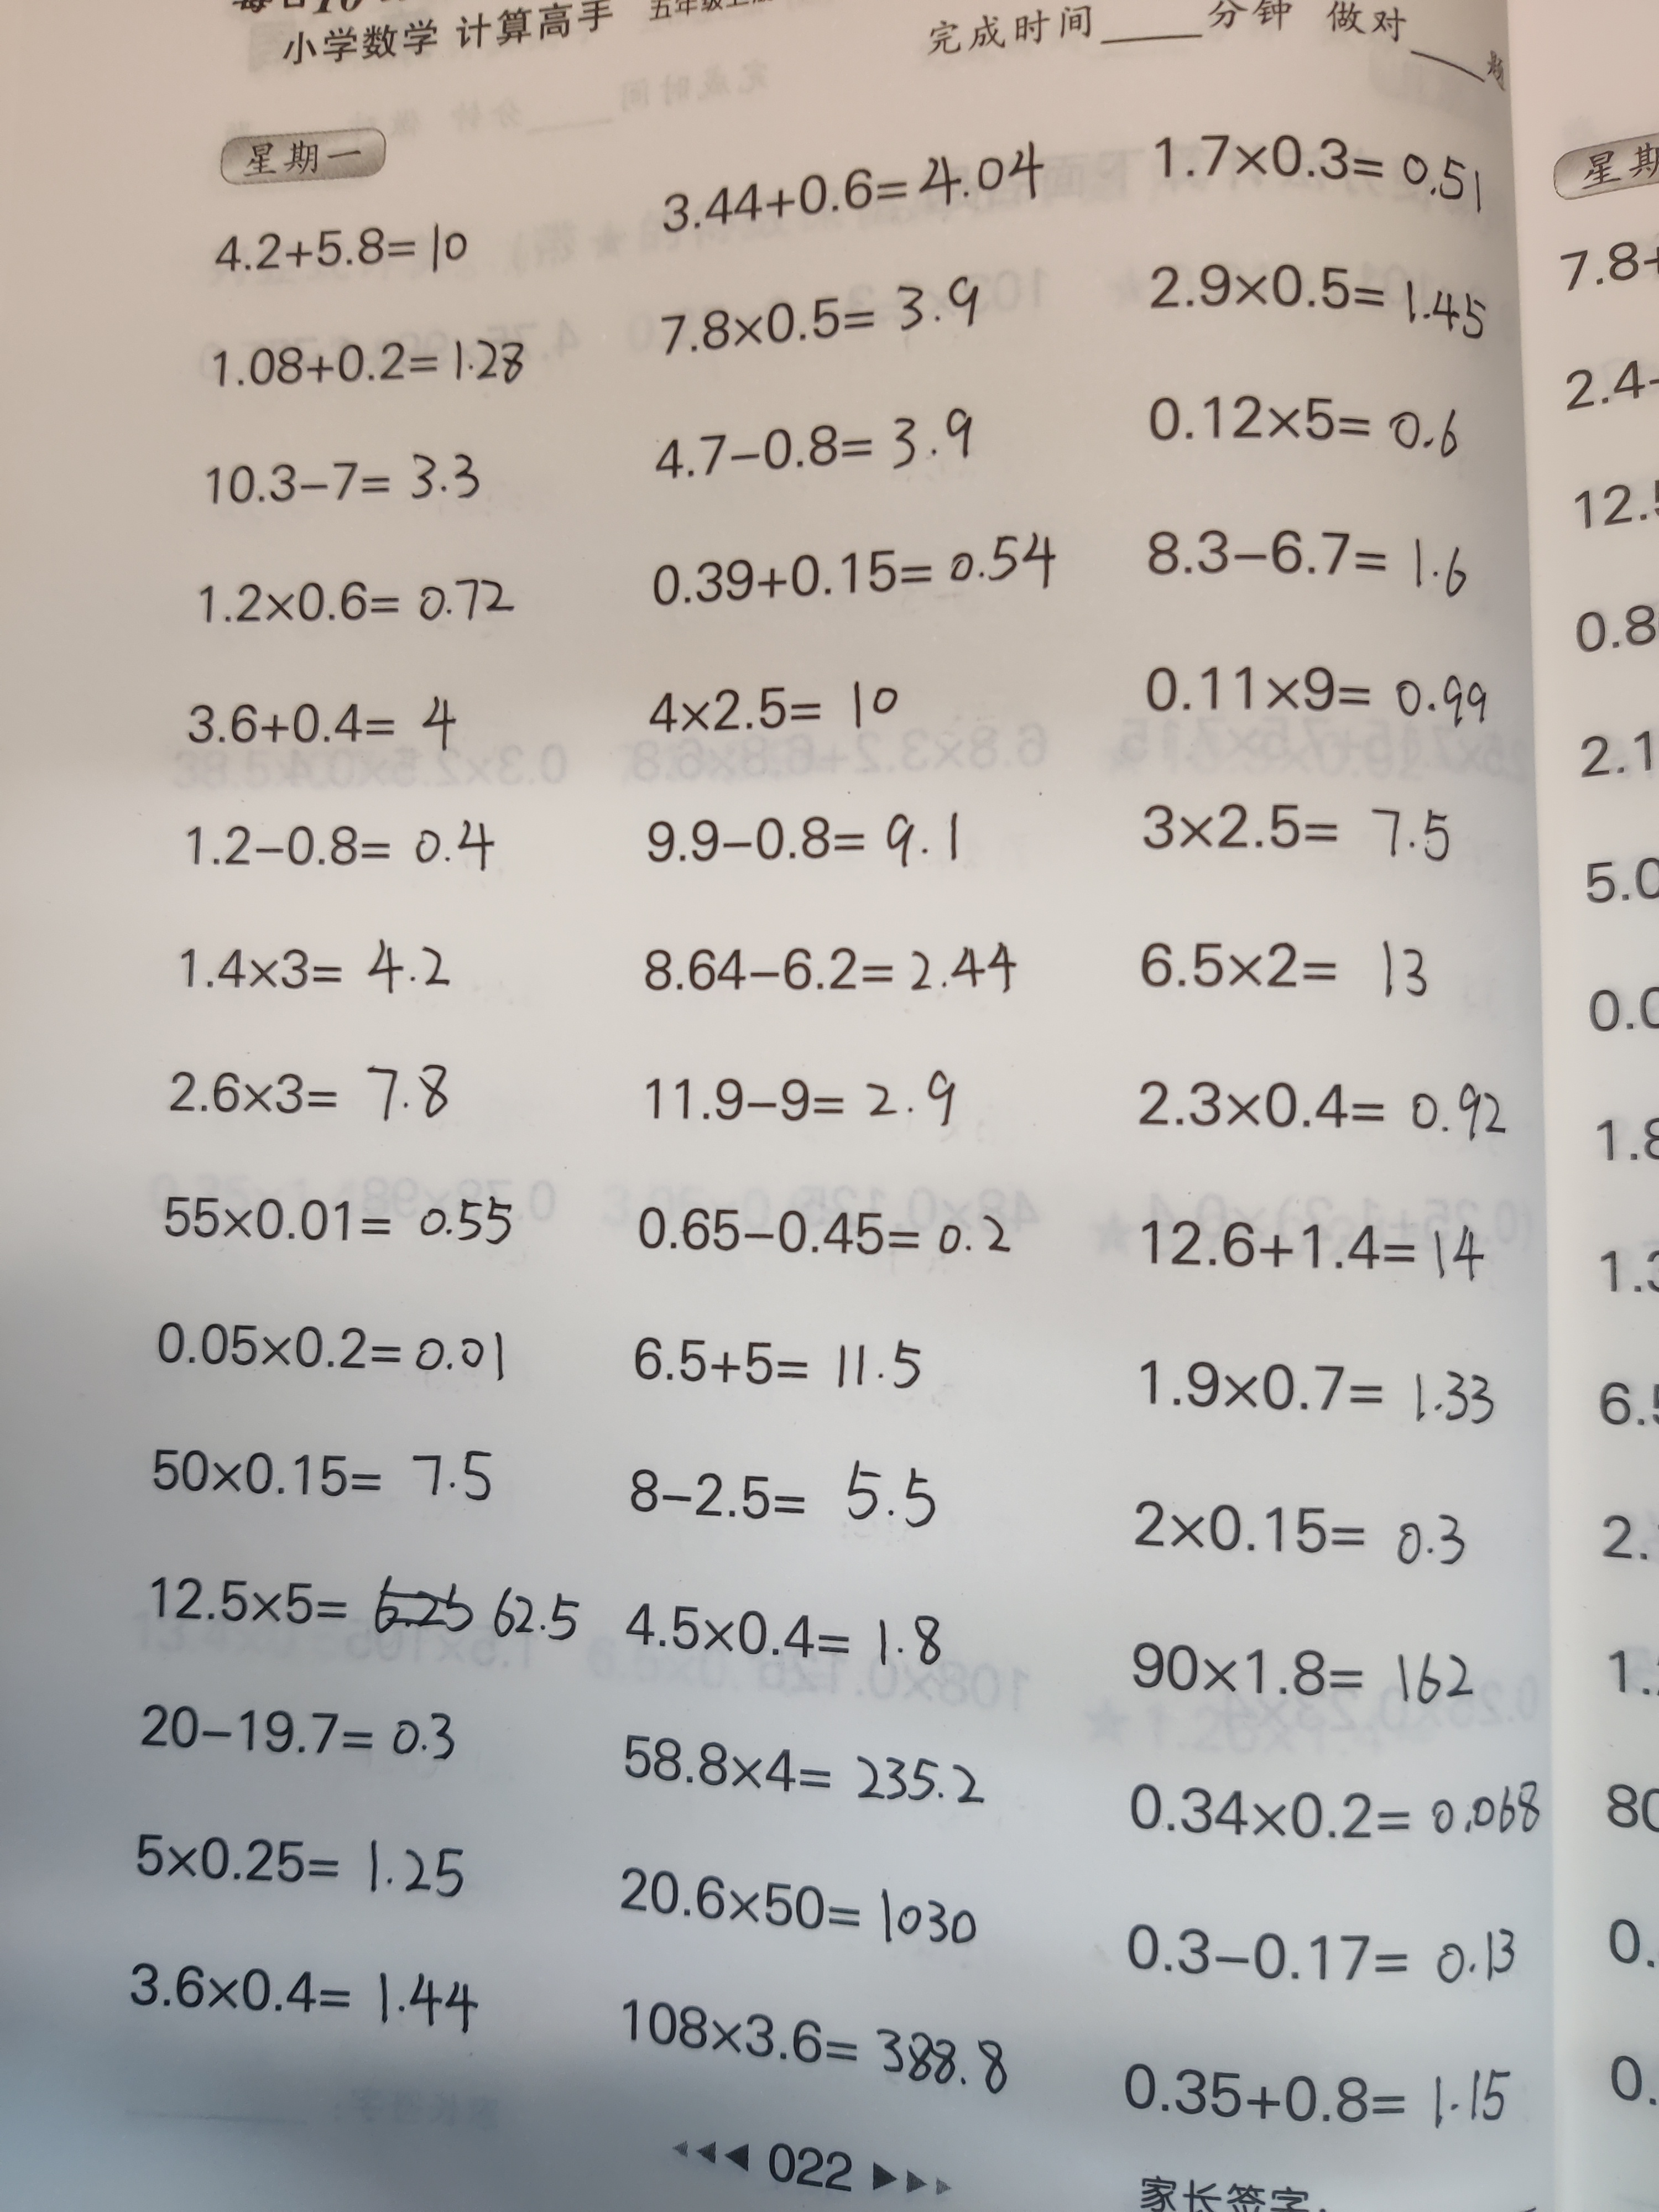equation: (132, 1550, 598, 1669), (1119, 2029, 1525, 2148), (615, 1709, 986, 1838), (610, 1991, 1019, 2106), (610, 1848, 983, 1970), (1117, 1750, 1544, 1857), (652, 138, 1073, 242), (1129, 1329, 1514, 1440), (1131, 251, 1499, 368), (622, 1176, 1019, 1278), (117, 1940, 493, 2048), (1107, 1909, 1530, 2005), (638, 526, 1072, 618), (1122, 906, 1459, 1024), (1122, 1200, 1490, 1308), (1145, 115, 1493, 228), (1124, 1479, 1485, 1587), (629, 923, 1037, 1015), (1117, 1061, 1514, 1155), (124, 1818, 486, 1921), (1124, 512, 1499, 611), (141, 1298, 511, 1397), (1110, 1625, 1497, 1719), (1129, 779, 1469, 885), (640, 266, 1002, 366), (148, 1170, 523, 1266), (610, 1442, 962, 1543), (136, 1433, 502, 1527), (1134, 643, 1497, 735), (131, 1686, 471, 1784), (617, 1581, 950, 1681), (633, 399, 1004, 488), (624, 1054, 971, 1146), (190, 317, 535, 409), (183, 556, 537, 643), (162, 803, 511, 887), (626, 803, 974, 887), (1134, 387, 1473, 472), (606, 1317, 931, 1406), (160, 921, 465, 1012), (636, 669, 939, 758), (173, 685, 467, 772), (150, 1054, 467, 1130), (193, 209, 498, 286), (186, 437, 498, 512)
